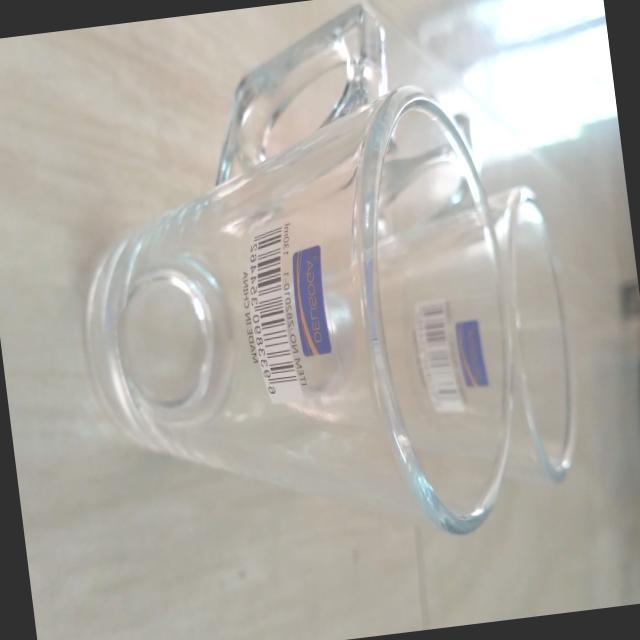glass-VX4N: (48, 0, 533, 580), (179, 79, 594, 521)
